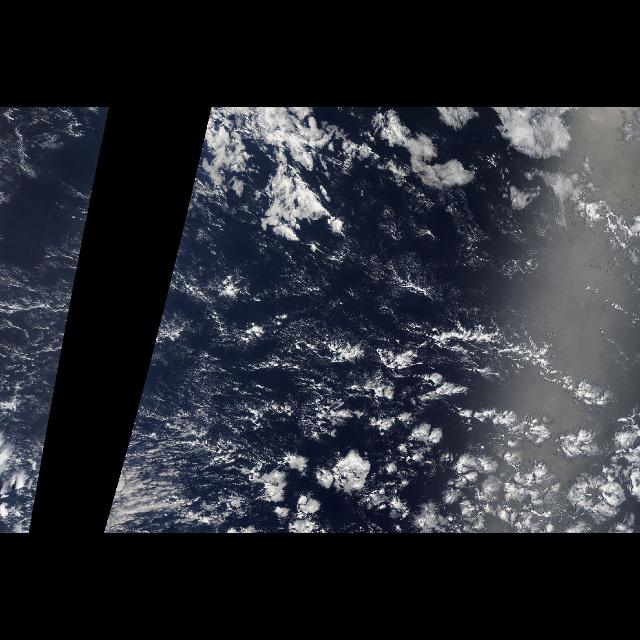Flower: (264, 359, 640, 533)
Sugar: (119, 230, 586, 514), (1, 260, 80, 472)
